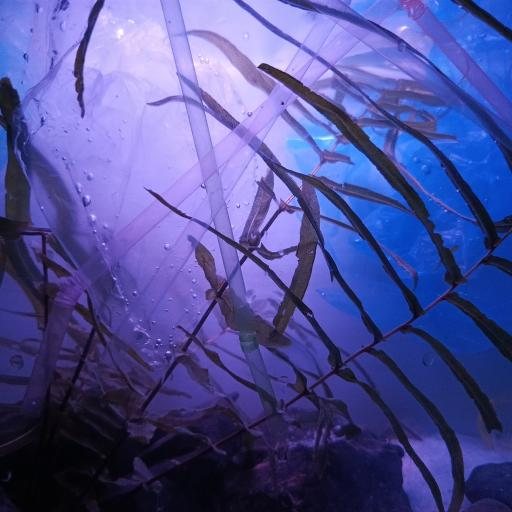plastic_bag: (0, 0, 308, 392), (284, 43, 512, 372)
plastic_straw: (28, 0, 377, 413), (83, 0, 373, 427), (160, 0, 280, 420), (308, 0, 512, 147), (405, 4, 512, 128)
